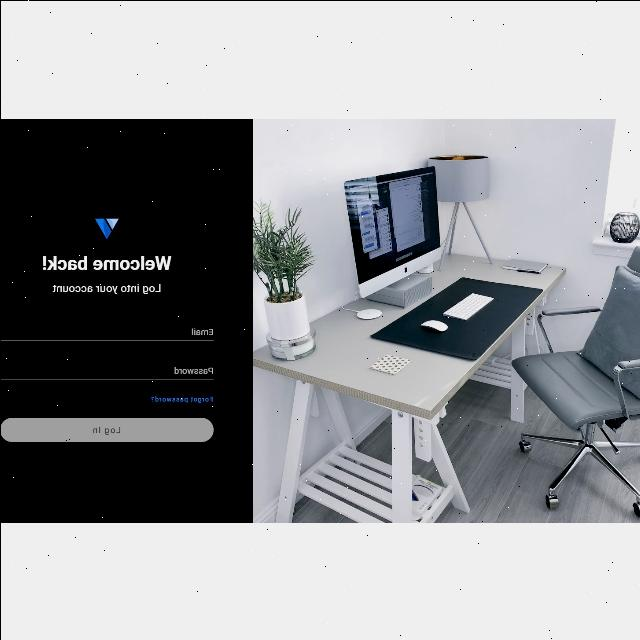QLabel: (41, 254, 171, 272), (51, 282, 160, 294), (150, 395, 212, 403), (92, 426, 120, 434)
VBtn: (0, 416, 214, 442)
VImg: (252, 118, 640, 522), (94, 217, 118, 239)
VTextField: (1, 325, 216, 341), (0, 364, 214, 380)
